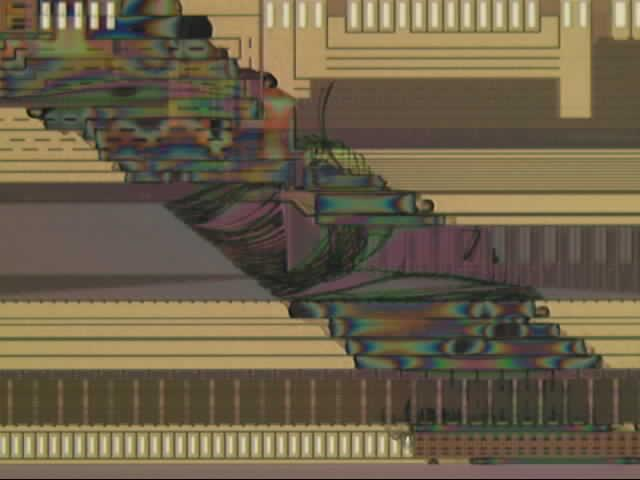COATING BAD: (1, 1, 640, 474)
